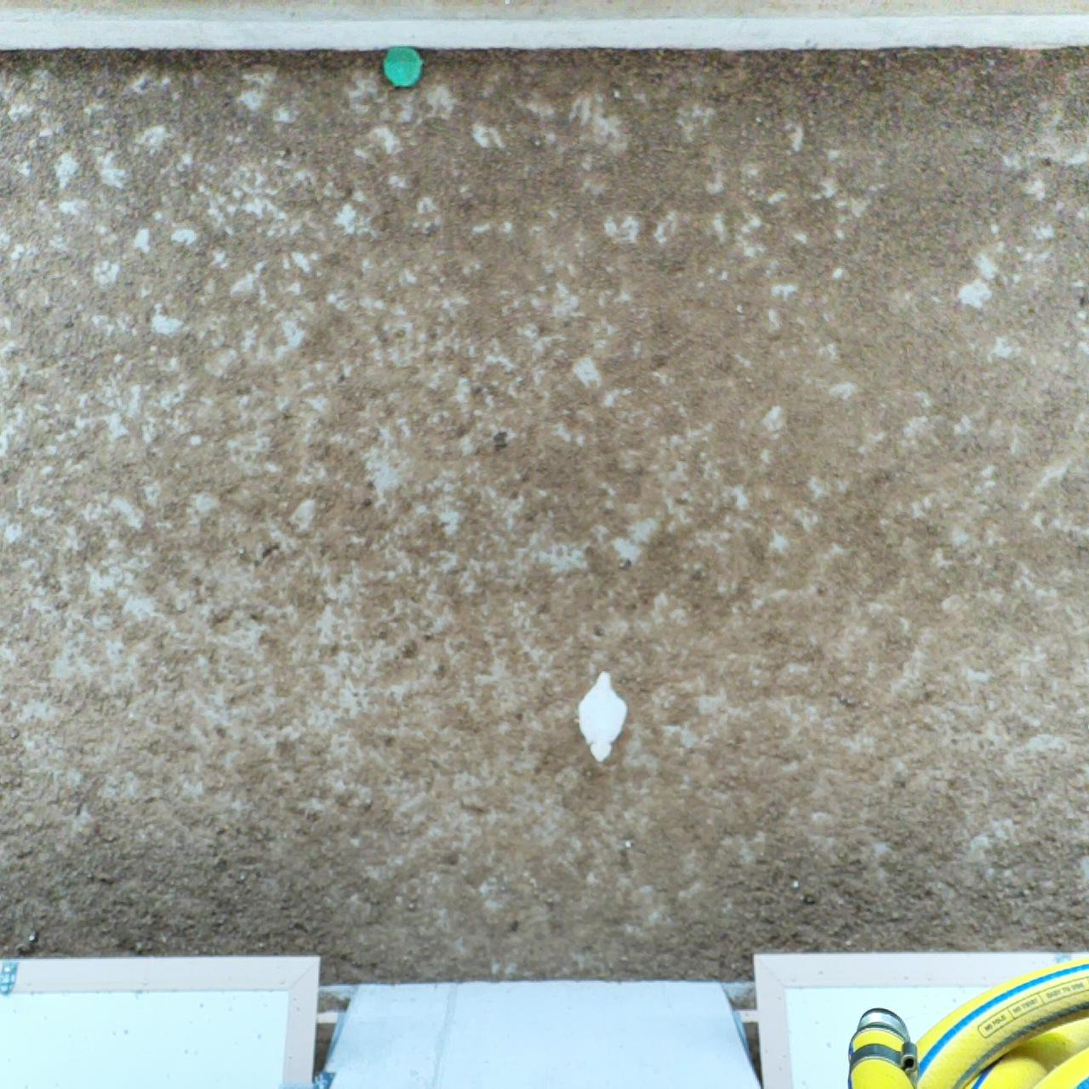chicken: (576, 666, 629, 764)
